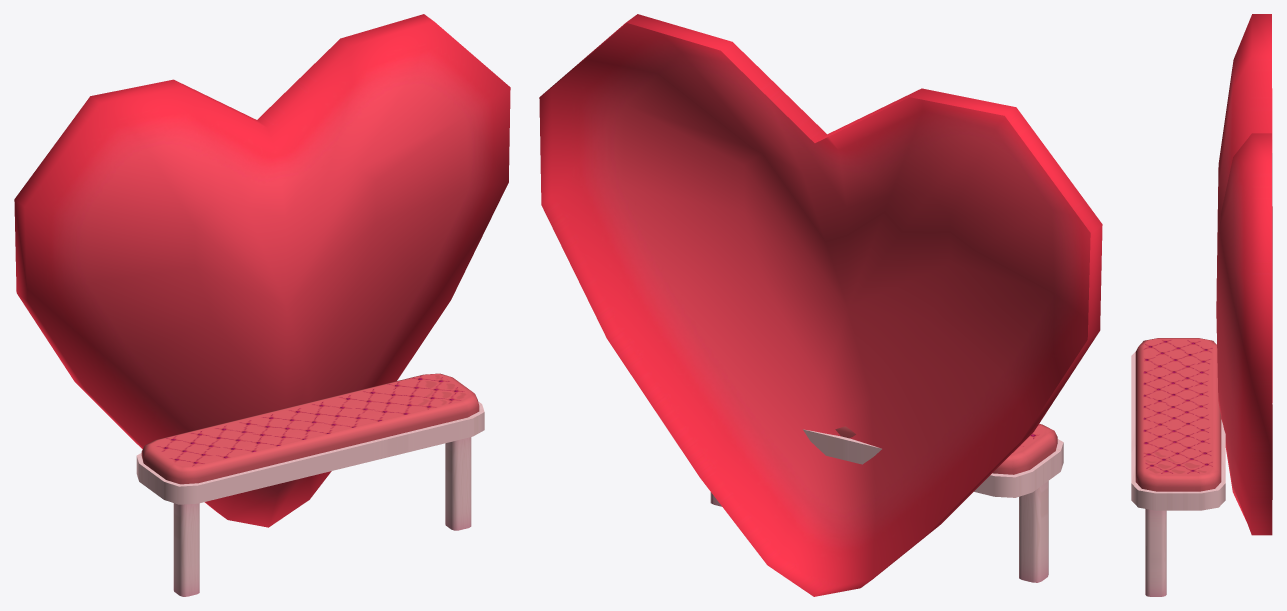
File: LoveSeat1_01.fbx
The picture shows the model from 3 angles, left to right: view 1: azimuth 30°, elevation 25°; view 2: azimuth 150°, elevation 25°; view 3: azimuth 270°, elevation 25°; orthographic projection. The views are drawn at different scales.
Visible parts, largest first — view 1: LoveSeat; view 2: LoveSeat; view 3: LoveSeat.
Boxes of the visible parts, bbox=[...] form: LoveSeat: bbox=[14, 14, 510, 596]; LoveSeat: bbox=[539, 14, 1102, 596]; LoveSeat: bbox=[1131, 14, 1272, 596].
Bounding box in the file's own units: 250 × 229 × 66.41.
